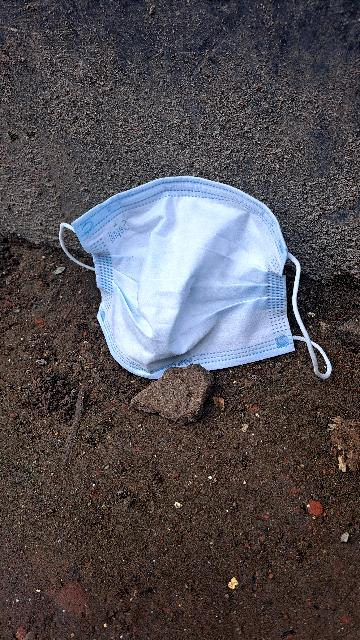mask: (30, 141, 352, 419)
